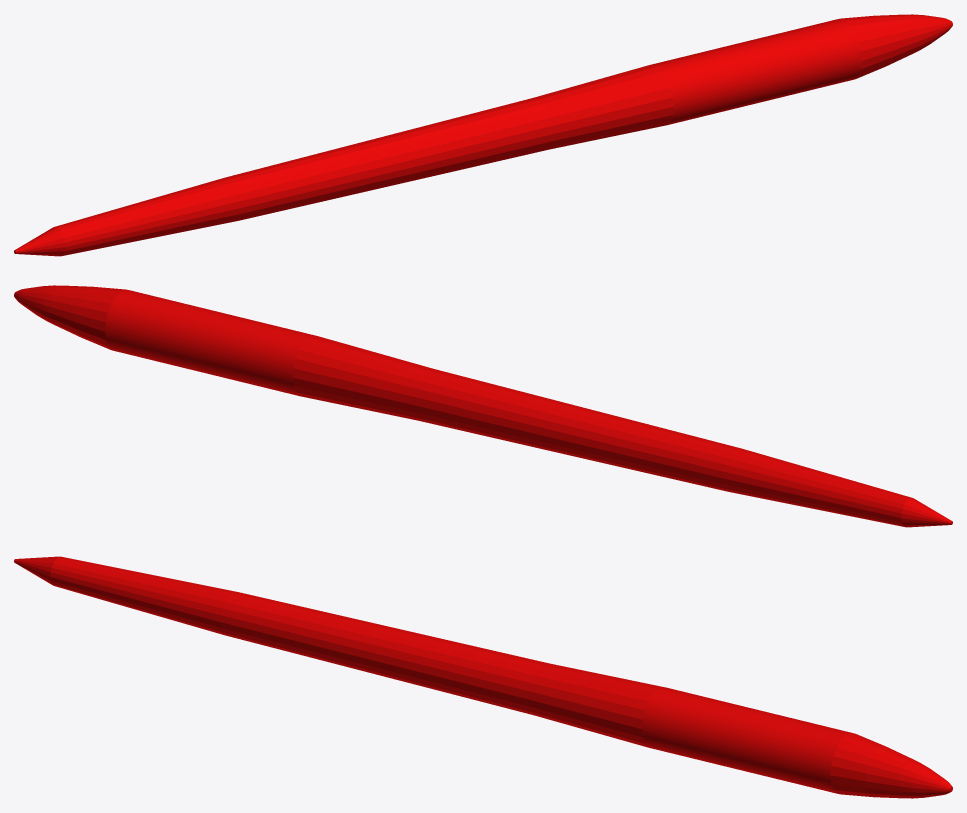
Rendered from SpeedNeedle.fbx.
3 renders of one model, top to bottom at view 1: azimuth 30°, elevation 25°; view 2: azimuth 150°, elevation 25°; view 3: azimuth 330°, elevation 25°, orthographic.
Parts seen in each view (by area): view 1: SpeedNeedle; view 2: SpeedNeedle; view 3: SpeedNeedle.
Boxes of the visible parts, x1,y1,x2,y2 form: SpeedNeedle: [14, 14, 952, 256]; SpeedNeedle: [14, 285, 952, 527]; SpeedNeedle: [14, 556, 952, 798].
Bounding box in the file's own units: 3 × 0.1757 × 0.1757.
